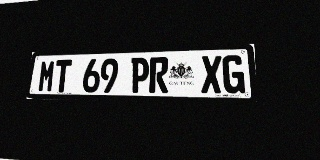6: (82, 59, 101, 92)
9: (99, 58, 119, 93)
G: (222, 55, 245, 93)
M: (37, 60, 56, 92)
P: (130, 57, 149, 93)
R: (149, 57, 169, 93)
T: (53, 59, 72, 92)
X: (201, 55, 222, 93)
